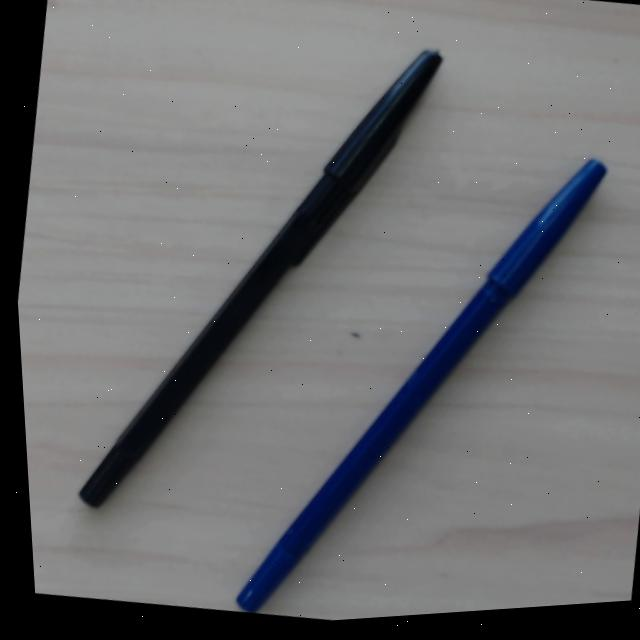Pulpen-Biru: (227, 151, 613, 617)
Pulpen-Hitam: (62, 43, 458, 512)
